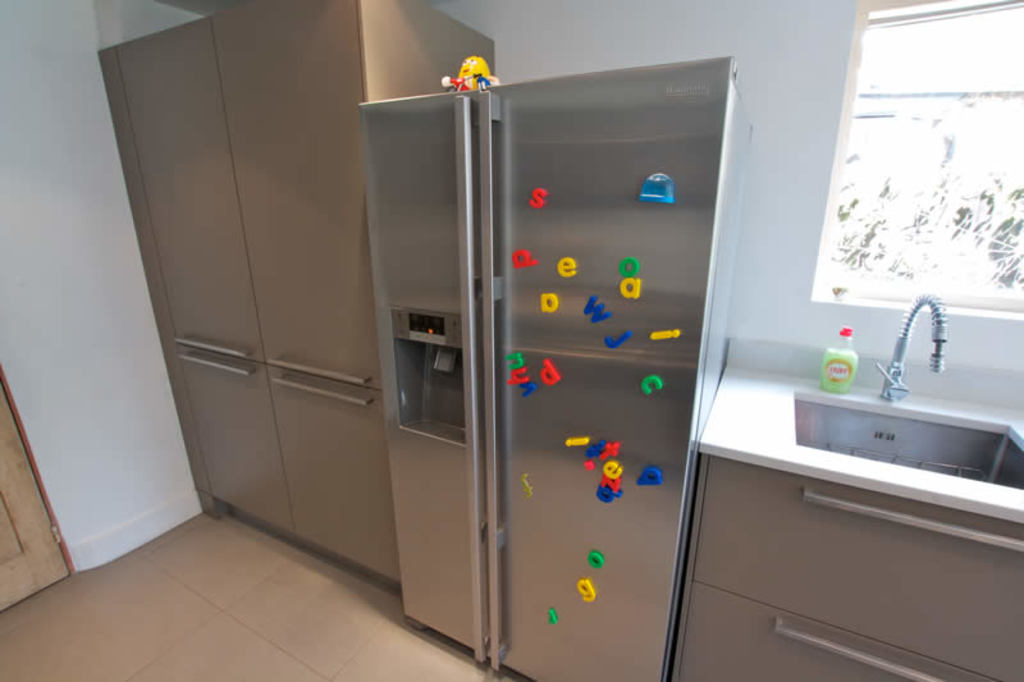cabinet door: (214, 34, 365, 371), (726, 471, 1024, 637), (123, 47, 226, 346), (710, 611, 989, 682), (283, 381, 386, 557), (175, 363, 274, 508)
door: (0, 438, 59, 572)
handle: (449, 99, 489, 658), (476, 96, 513, 665), (797, 472, 1024, 554), (769, 617, 936, 682), (275, 378, 378, 412), (268, 349, 371, 381), (169, 330, 250, 361), (175, 355, 254, 381)
refrigerator door: (498, 92, 671, 682), (359, 109, 487, 636)
